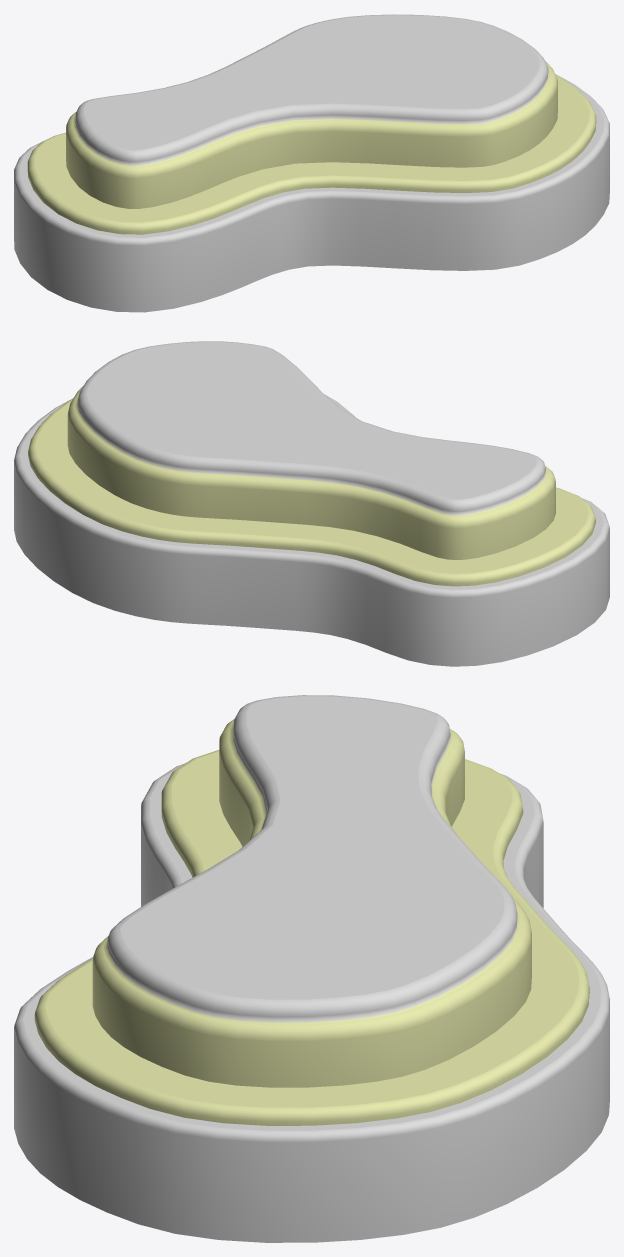
The model's file is sitting.fbx.
The picture shows the model from 3 angles, top to bottom: view 1: azimuth 30°, elevation 25°; view 2: azimuth 150°, elevation 25°; view 3: azimuth 270°, elevation 25°; orthographic projection. The views are drawn at different scales.
Parts seen in each view (by area): view 1: Line001.001; view 2: Line001.001; view 3: Line001.001.
Part boxes in pixels (x1,y1,x2,y2): Line001.001: [14, 14, 609, 312]; Line001.001: [14, 341, 609, 666]; Line001.001: [14, 695, 609, 1242].
Bounding box in the file's own units: 68.43 × 16.15 × 43.91.
